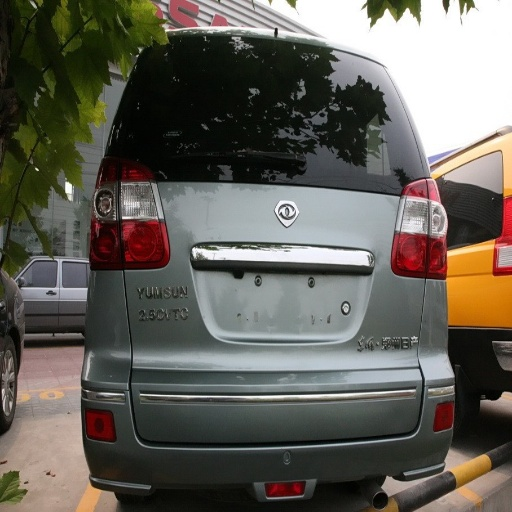back_bumper: (93, 272, 454, 508)
tailgate: (192, 161, 397, 367)
trunk: (122, 163, 263, 393), (301, 179, 426, 368)
